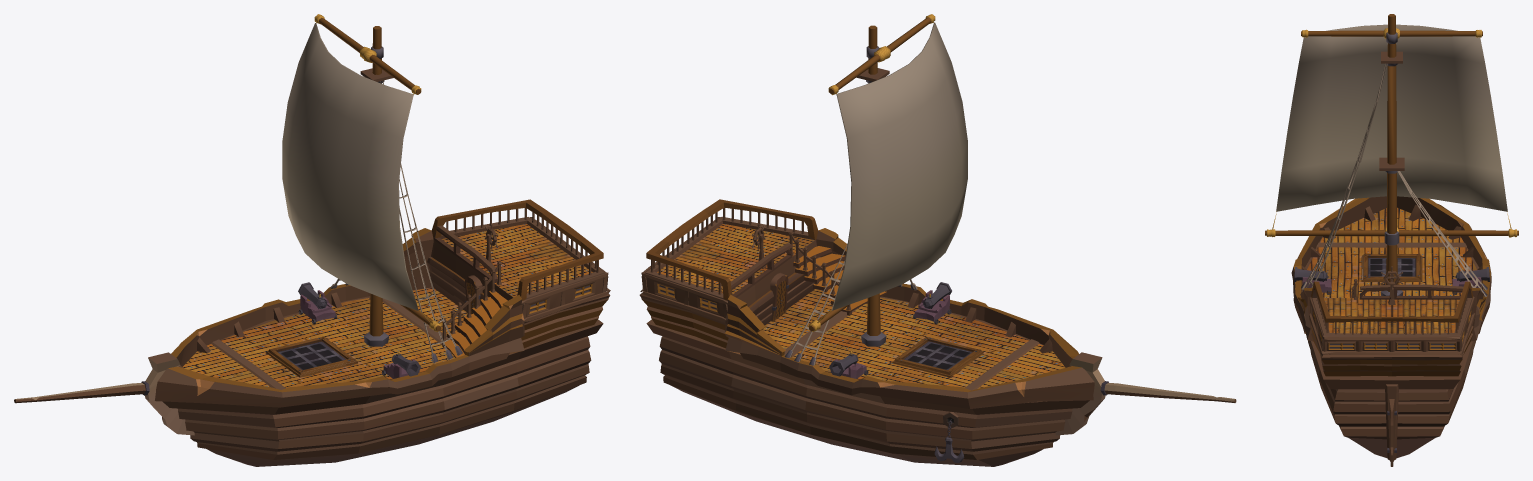
Rendered from Shiip_0.fbx.
The picture shows the model from 3 angles, left to right: view 1: azimuth 30°, elevation 25°; view 2: azimuth 150°, elevation 25°; view 3: azimuth 270°, elevation 25°; orthographic projection. The views are drawn at different scales.
Visible parts, largest first — view 1: ship hull_0, sail_0, captain_ floor_0, side of the ship, mast_0, manhole_0, Cannon_0, rope ladder.001; view 2: ship hull_0, sail_0, captain_ floor_0, side of the ship, mast_0, manhole_0, Cannon_0, rope ladder.001, Anchor_0; view 3: sail_0, ship hull_0, captain_ floor_0, side of the ship, mast_0, rope ladder.001, manhole_0, Cannon_0, steering fin_0.
Part boxes in pixels (x1,y1,x2,y2): ship hull_0: [162, 287, 603, 466]; sail_0: [282, 22, 432, 323]; captain_ floor_0: [427, 199, 610, 357]; side of the ship: [14, 228, 524, 435]; mast_0: [314, 14, 441, 346]; manhole_0: [266, 336, 357, 377]; Cannon_0: [298, 282, 420, 378]; rope ladder.001: [330, 81, 462, 363]; ship hull_0: [646, 289, 1089, 466]; sail_0: [817, 22, 967, 323]; captain_ floor_0: [639, 199, 887, 348]; side of the ship: [724, 228, 1236, 435]; mast_0: [809, 14, 935, 346]; manhole_0: [892, 337, 983, 377]; Cannon_0: [829, 282, 951, 378]; rope ladder.001: [784, 243, 917, 365]; Anchor_0: [934, 411, 964, 462]; sail_0: [1272, 24, 1511, 229]; ship hull_0: [1302, 207, 1481, 458]; captain_ floor_0: [1309, 279, 1474, 376]; side of the ship: [1291, 196, 1491, 341]; mast_0: [1265, 14, 1518, 295]; rope ladder.001: [1301, 63, 1487, 296]; manhole_0: [1361, 254, 1422, 281]; Cannon_0: [1294, 267, 1489, 294]; steering fin_0: [1385, 384, 1398, 466].
Size of the model in its own units: 1148 by 810 by 494.
